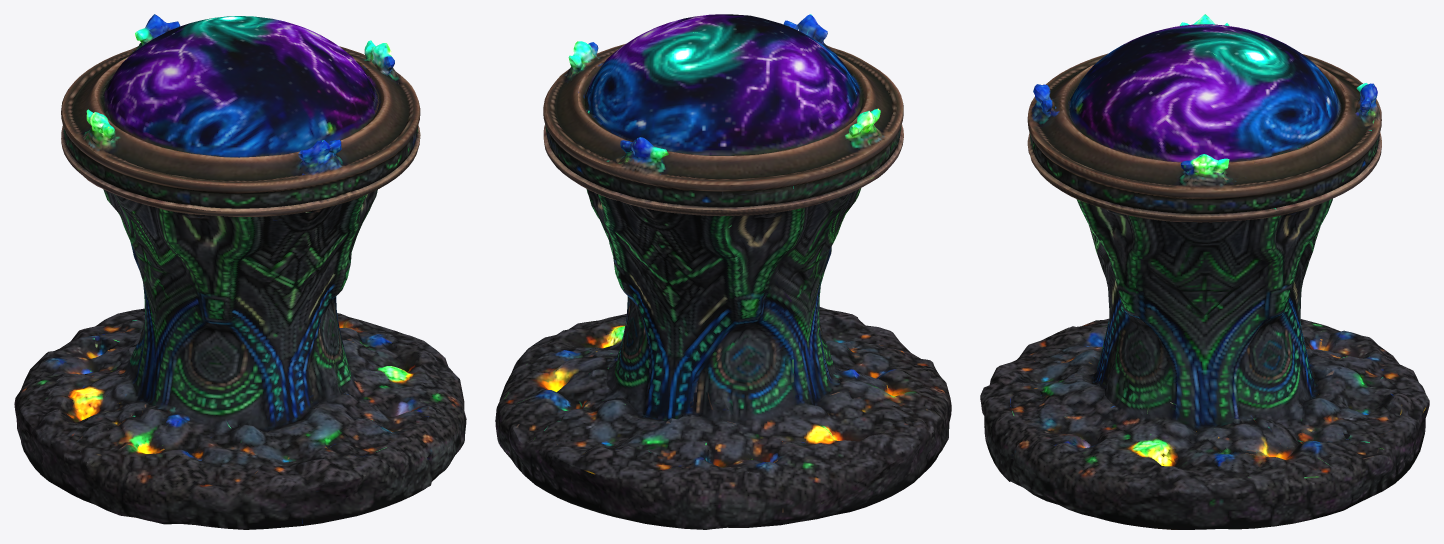
Rendered from bumper_lvl_4.glb.
3 renders of one model, left to right at view 1: azimuth 30°, elevation 25°; view 2: azimuth 150°, elevation 25°; view 3: azimuth 270°, elevation 25°, orthographic.
Parts seen in each view (by area): view 1: Mesh0; view 2: Mesh0; view 3: Mesh0.
Part boxes in pixels (box(x1,y1,x2,y2)): Mesh0: box(14, 14, 466, 529); Mesh0: box(495, 14, 951, 529); Mesh0: box(980, 14, 1429, 529).
Bounding box in the file's own units: 0.0788 × 0.0779 × 0.0798.
Materials: 1 (1 with a texture image).
